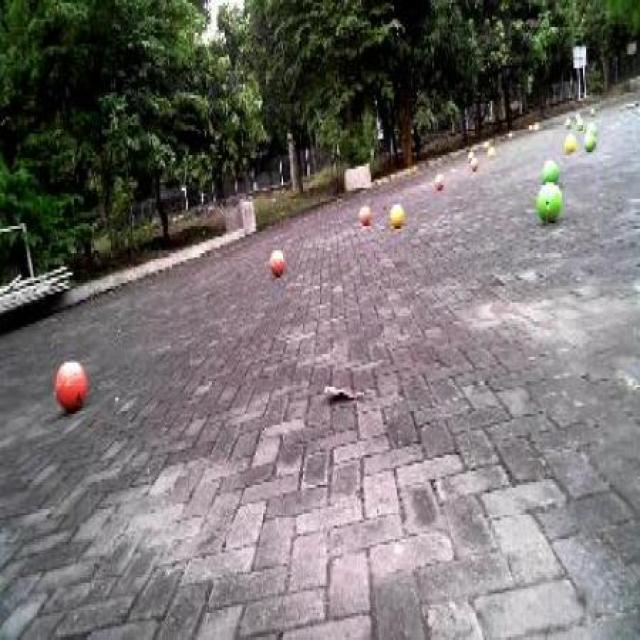buoy: (50, 343, 94, 428), (530, 173, 568, 232), (383, 189, 411, 239), (262, 235, 292, 280), (580, 121, 602, 162), (354, 192, 376, 230), (538, 150, 564, 180), (427, 162, 446, 195), (560, 124, 574, 159)
